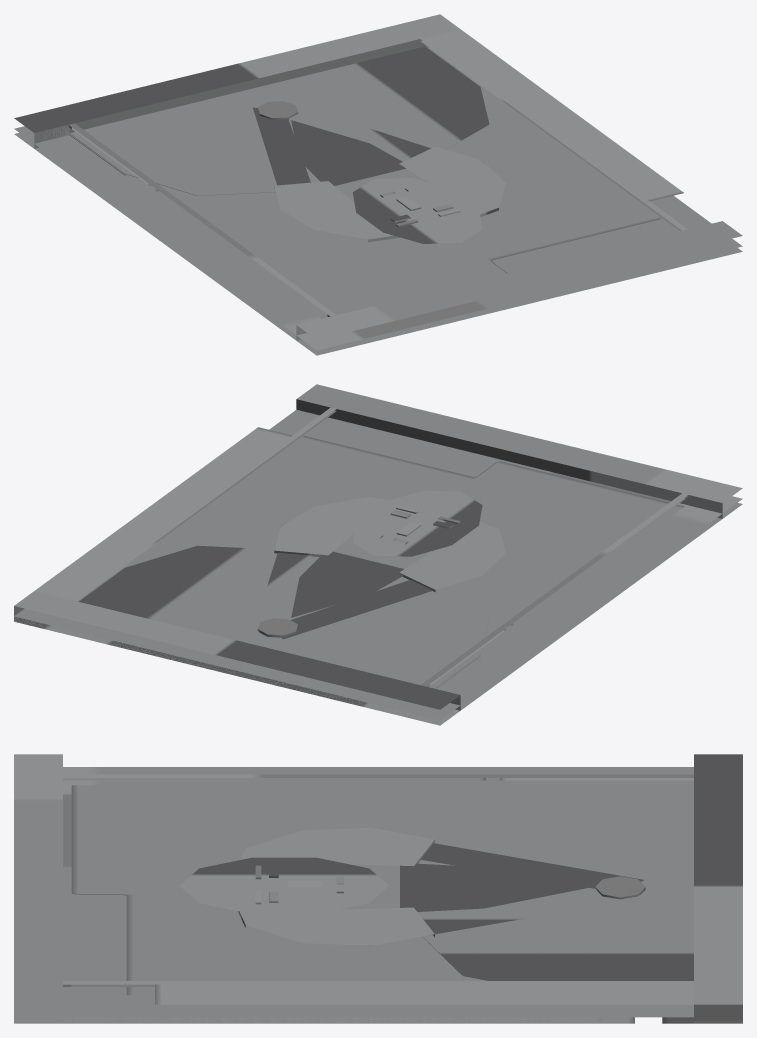
3 views of the same model, one above another, from view 1: azimuth 30°, elevation 25°; view 2: azimuth 150°, elevation 25°; view 3: azimuth 270°, elevation 25° (orthographic). The views are drawn at different scales.
Bounding box in the file's own units: 0.846 × 0.03 × 1.04.
